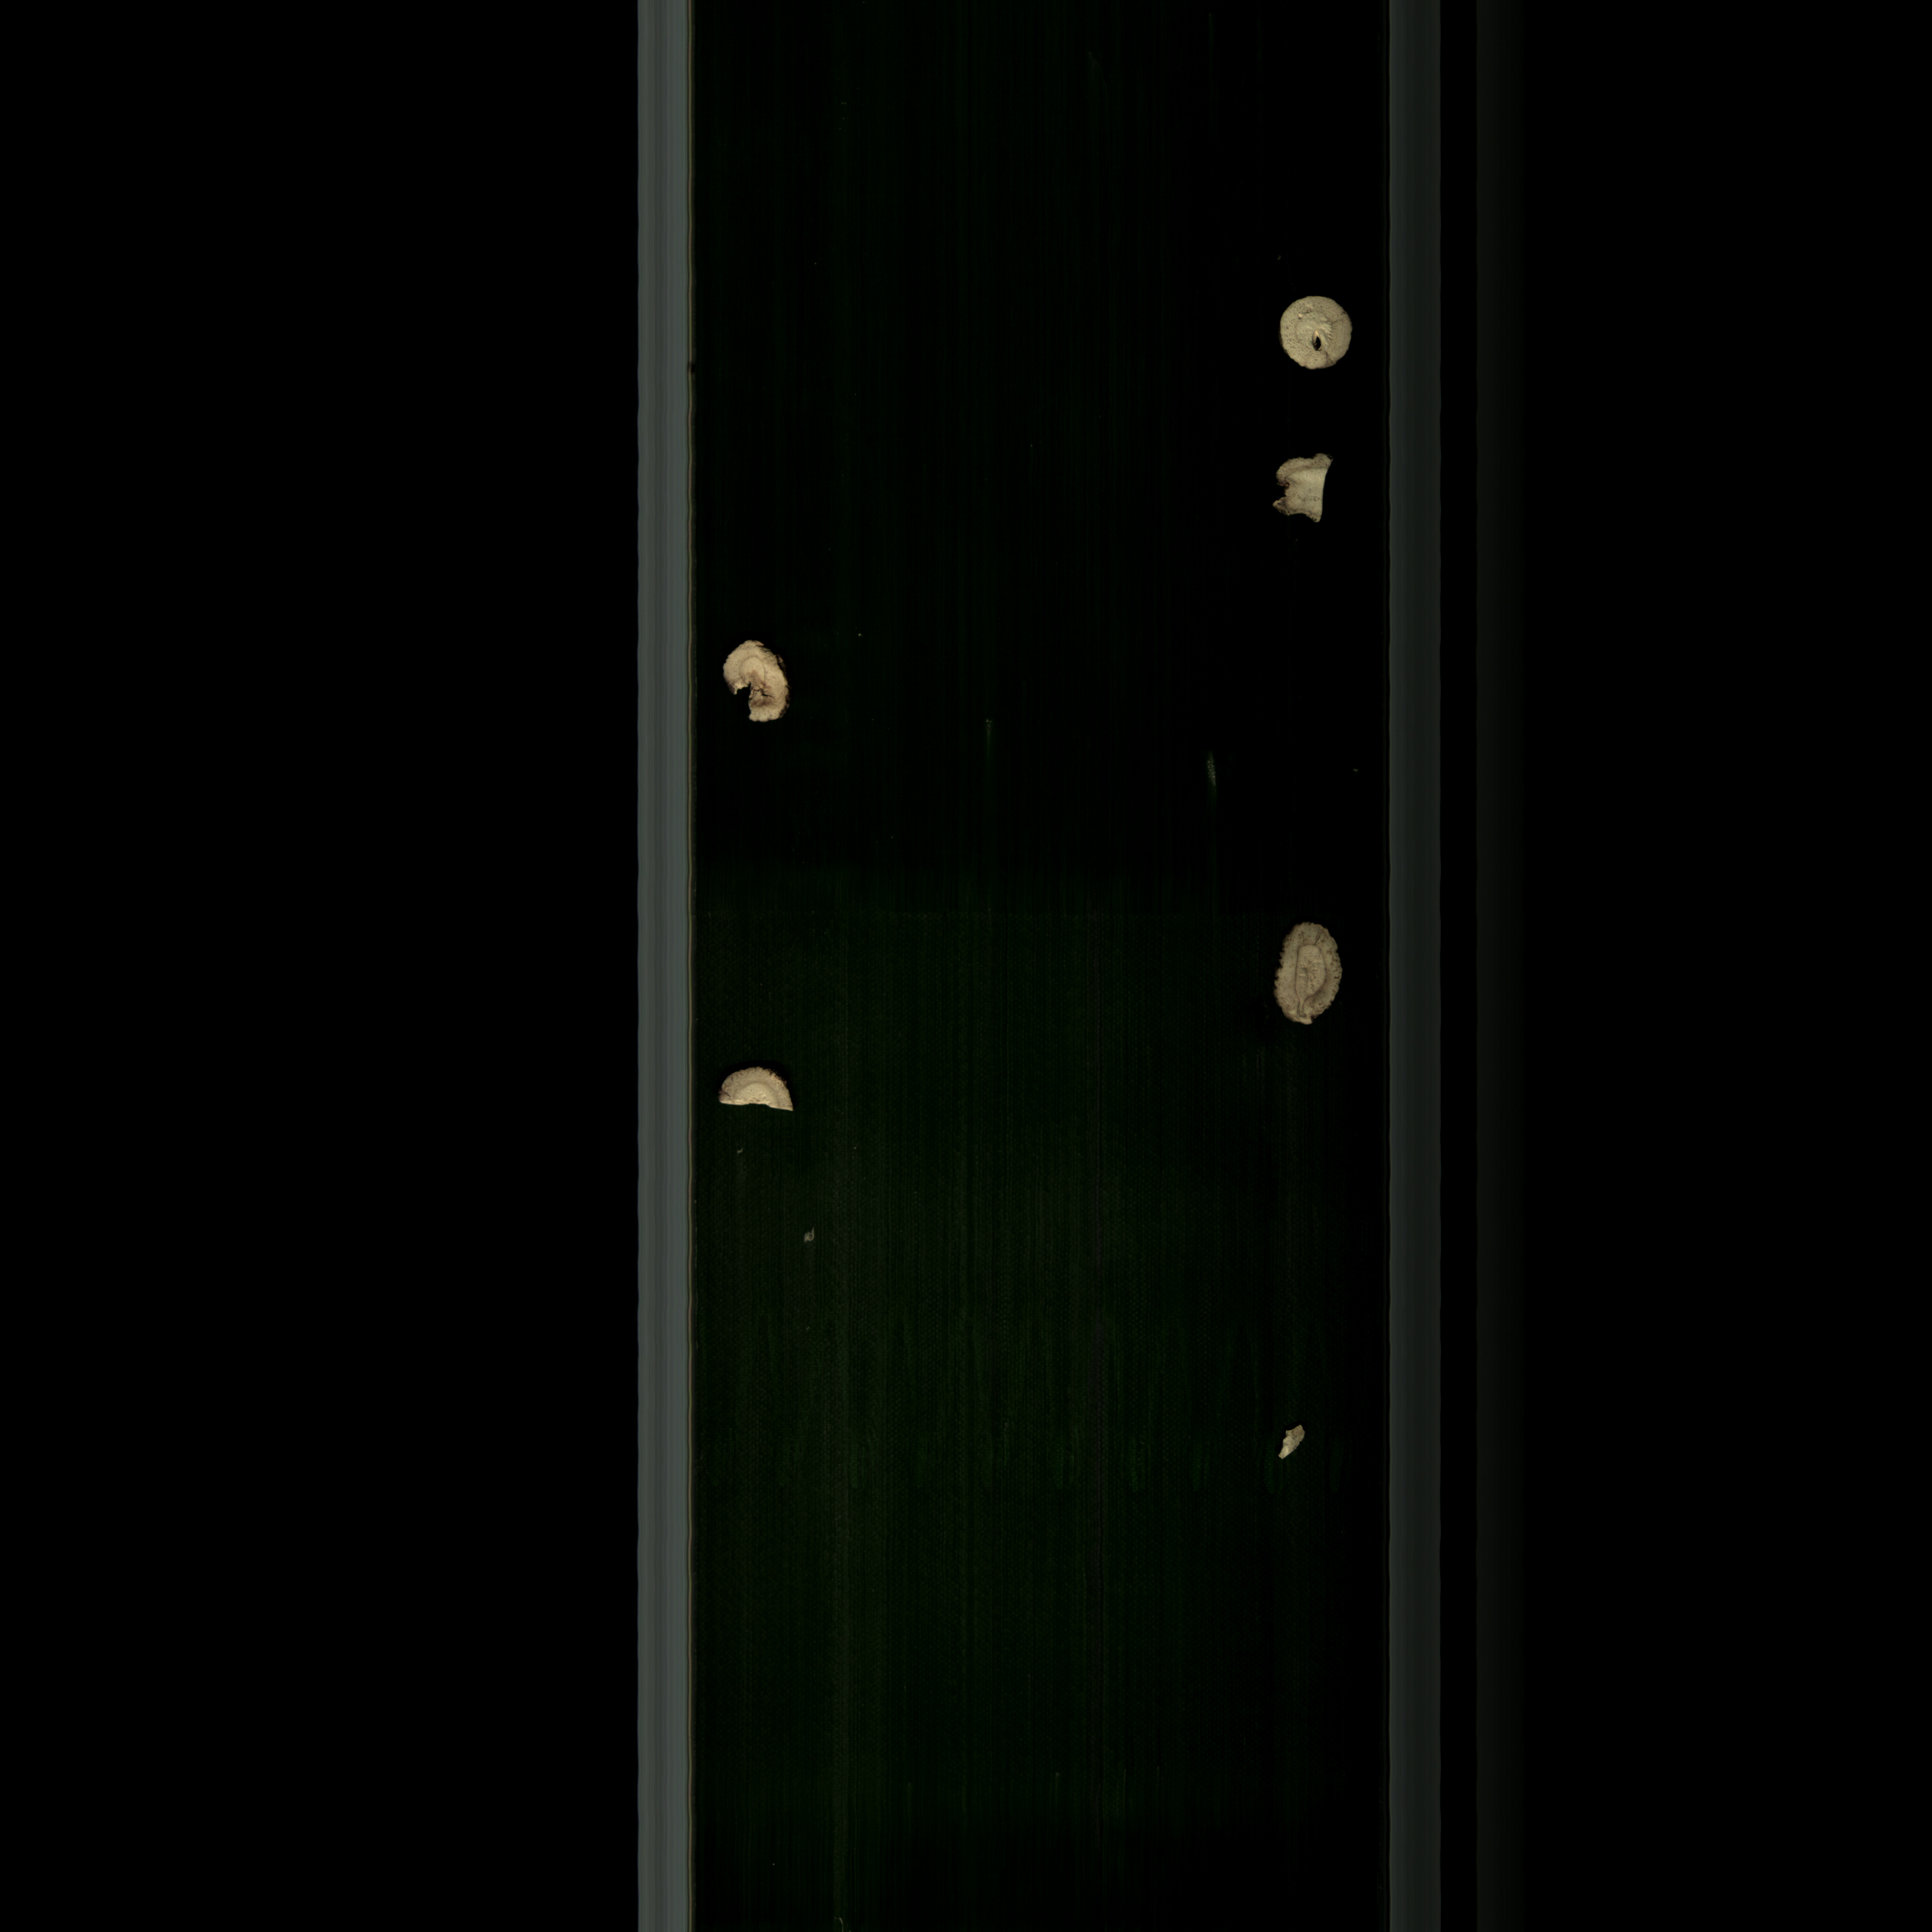debris: (713, 1063, 805, 1120)
dreg: (1261, 1412, 1320, 1467), (787, 1223, 830, 1253)
hole: (1267, 287, 1362, 387)
moldy: (709, 630, 805, 745), (1272, 916, 1348, 1049), (1261, 451, 1348, 547)
